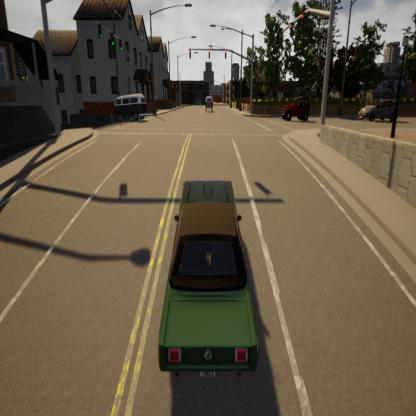Cars: (149, 175, 267, 388), (112, 92, 150, 125), (357, 96, 401, 124), (280, 92, 315, 124), (204, 92, 215, 114)
